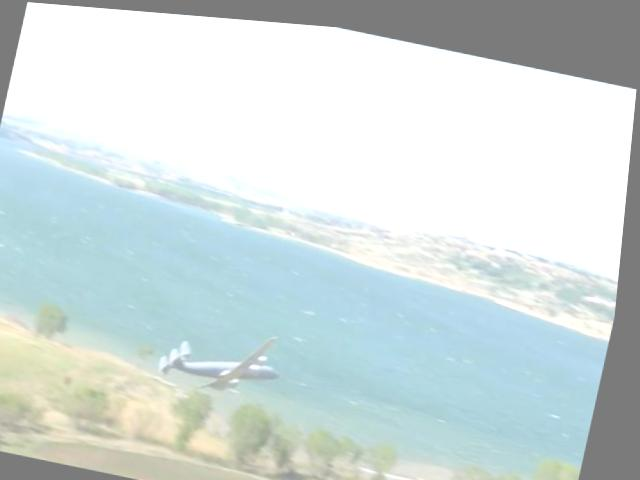iha: (157, 308, 296, 404)
